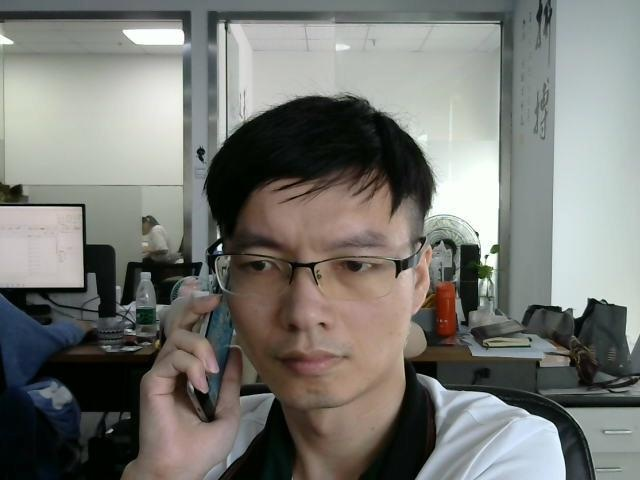hand: (148, 294, 247, 455)
